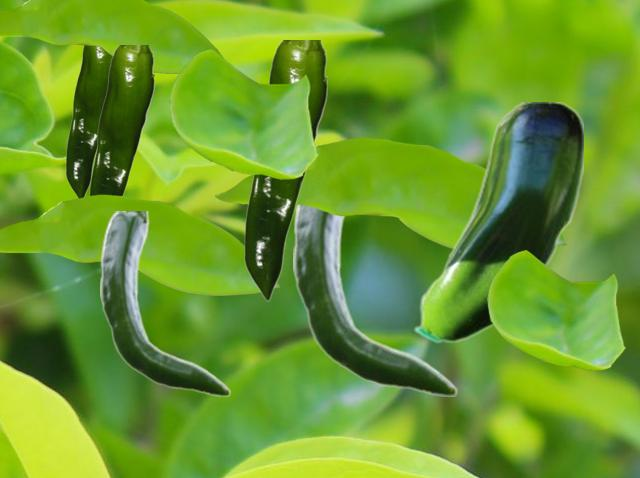green_chili: (413, 102, 582, 343), (293, 206, 457, 395), (100, 211, 230, 395), (243, 40, 326, 300), (88, 45, 153, 195), (65, 46, 111, 197)
